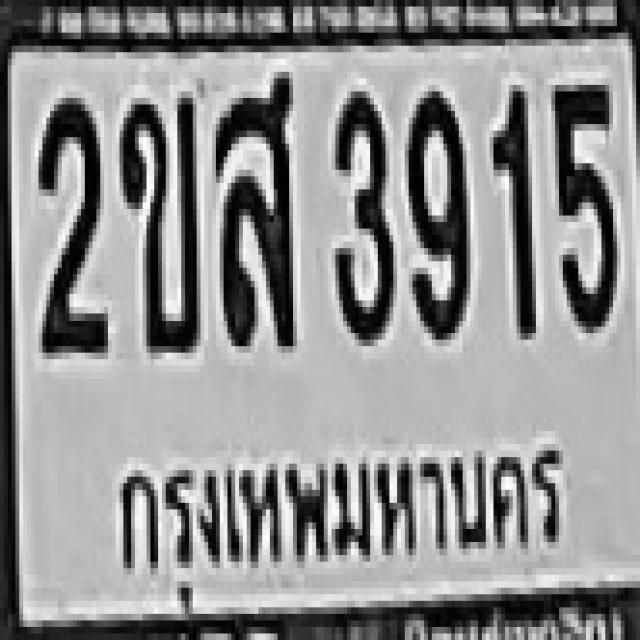1: (490, 82, 528, 336)
11KhorKhai: (116, 92, 196, 346)
2: (35, 95, 104, 349)
3: (332, 85, 389, 339)
49SorSuea: (212, 68, 289, 343)
5: (551, 78, 613, 326)
9: (405, 85, 466, 333)
Bangkok: (100, 418, 574, 609)
